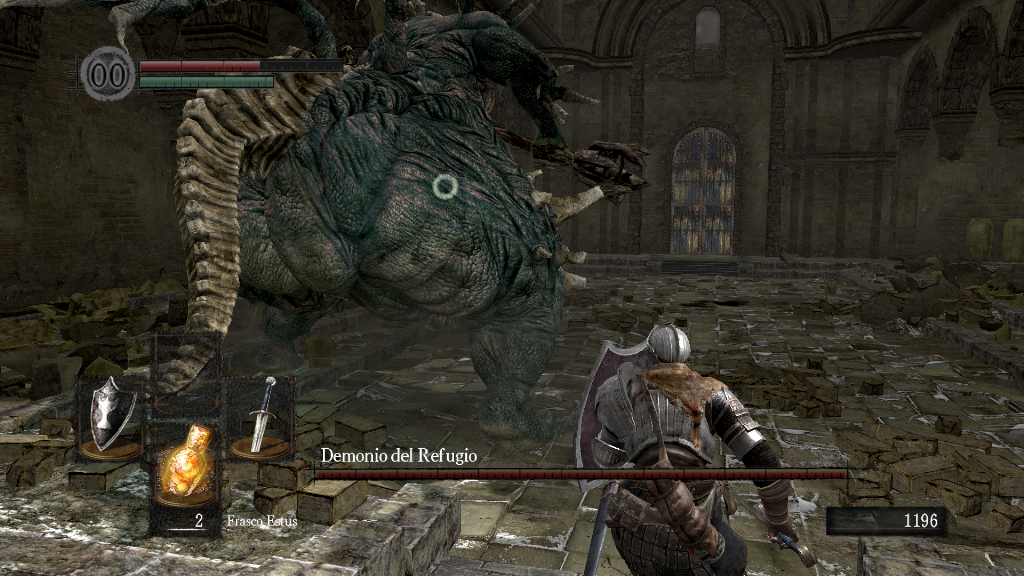asylumDemon: (106, 1, 653, 441)
bossHP: (314, 469, 847, 479)
health: (138, 58, 343, 71)
humanity: (80, 45, 136, 102)
player: (572, 322, 818, 576)
souls: (825, 506, 945, 536)
stamina: (138, 74, 274, 88)
